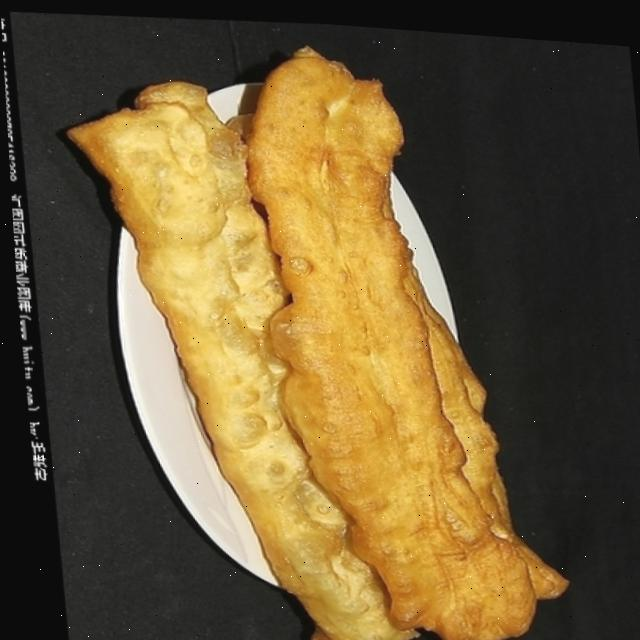炸货点心: (63, 25, 568, 640)
